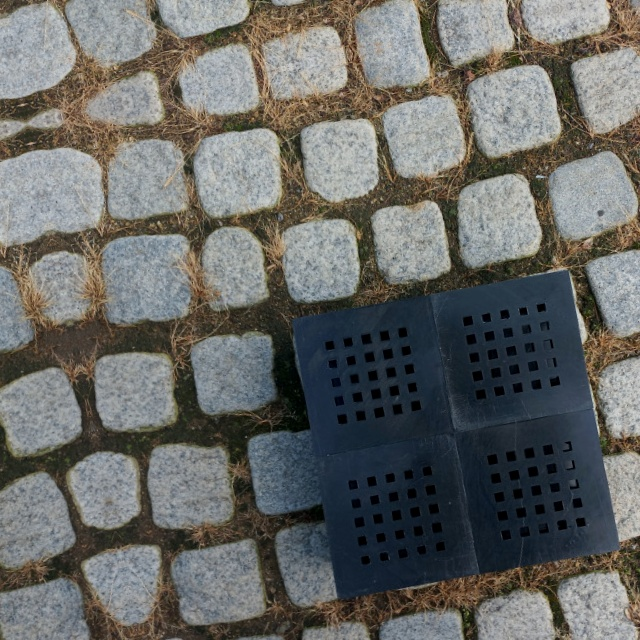pallet: (264, 256, 635, 612)
